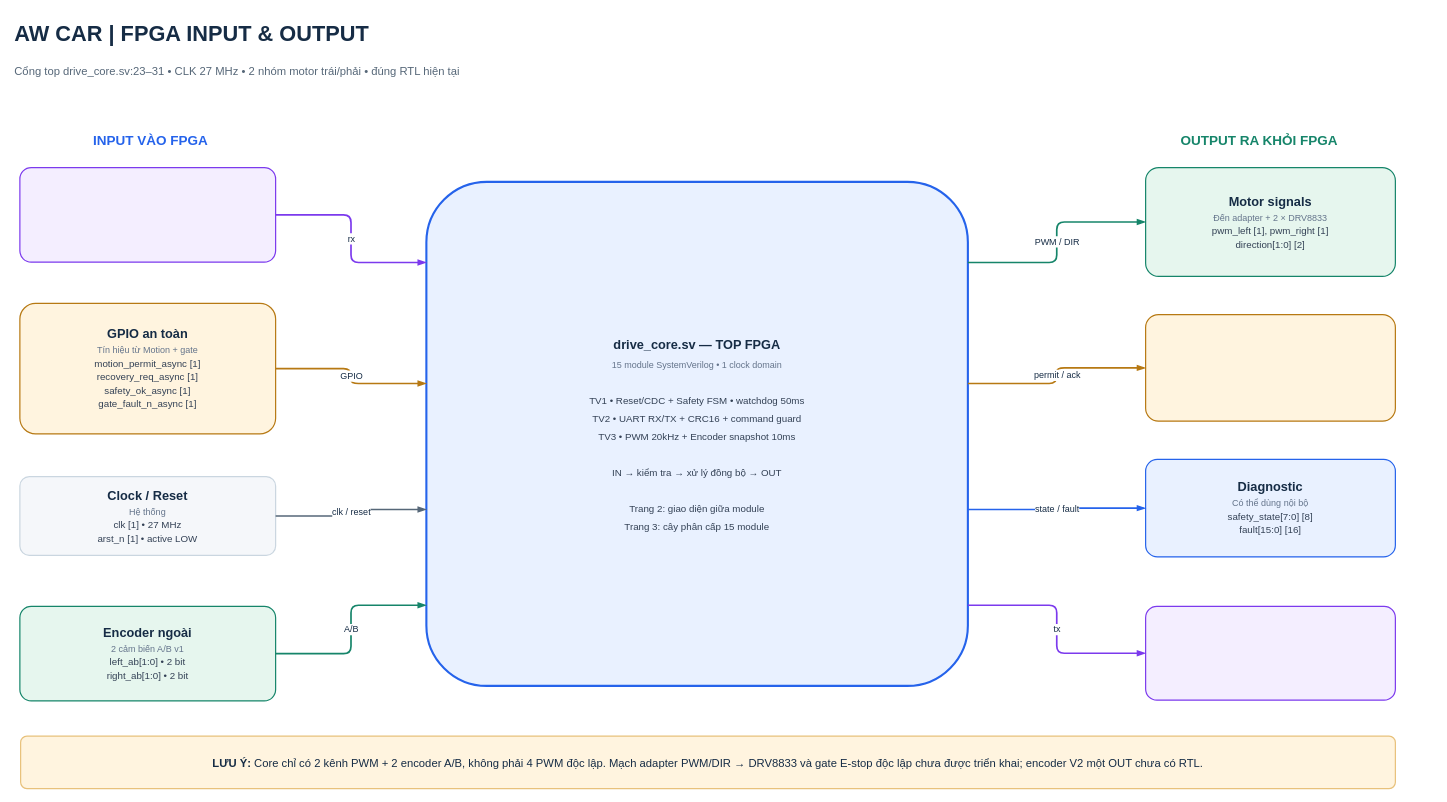
Some shapes in this 1447 by 802 pixel diagram are drawn without their labels. The centre of each missing label's shape, as x and y in pixels:
ESP32 Motion UART TX 115200 8N1 tx [1] • STATUS count + state + fault: the point at 1270,652
ESP32-S3 Motion UART RX 115200 8N1 rx [1] HELLO / ARM_ZERO / CMD: the point at 147,214
Safe GPIO Đến Motion / gate fpga_permit [1] recovery_ack [1] gate_clear [1]: the point at 1270,367
